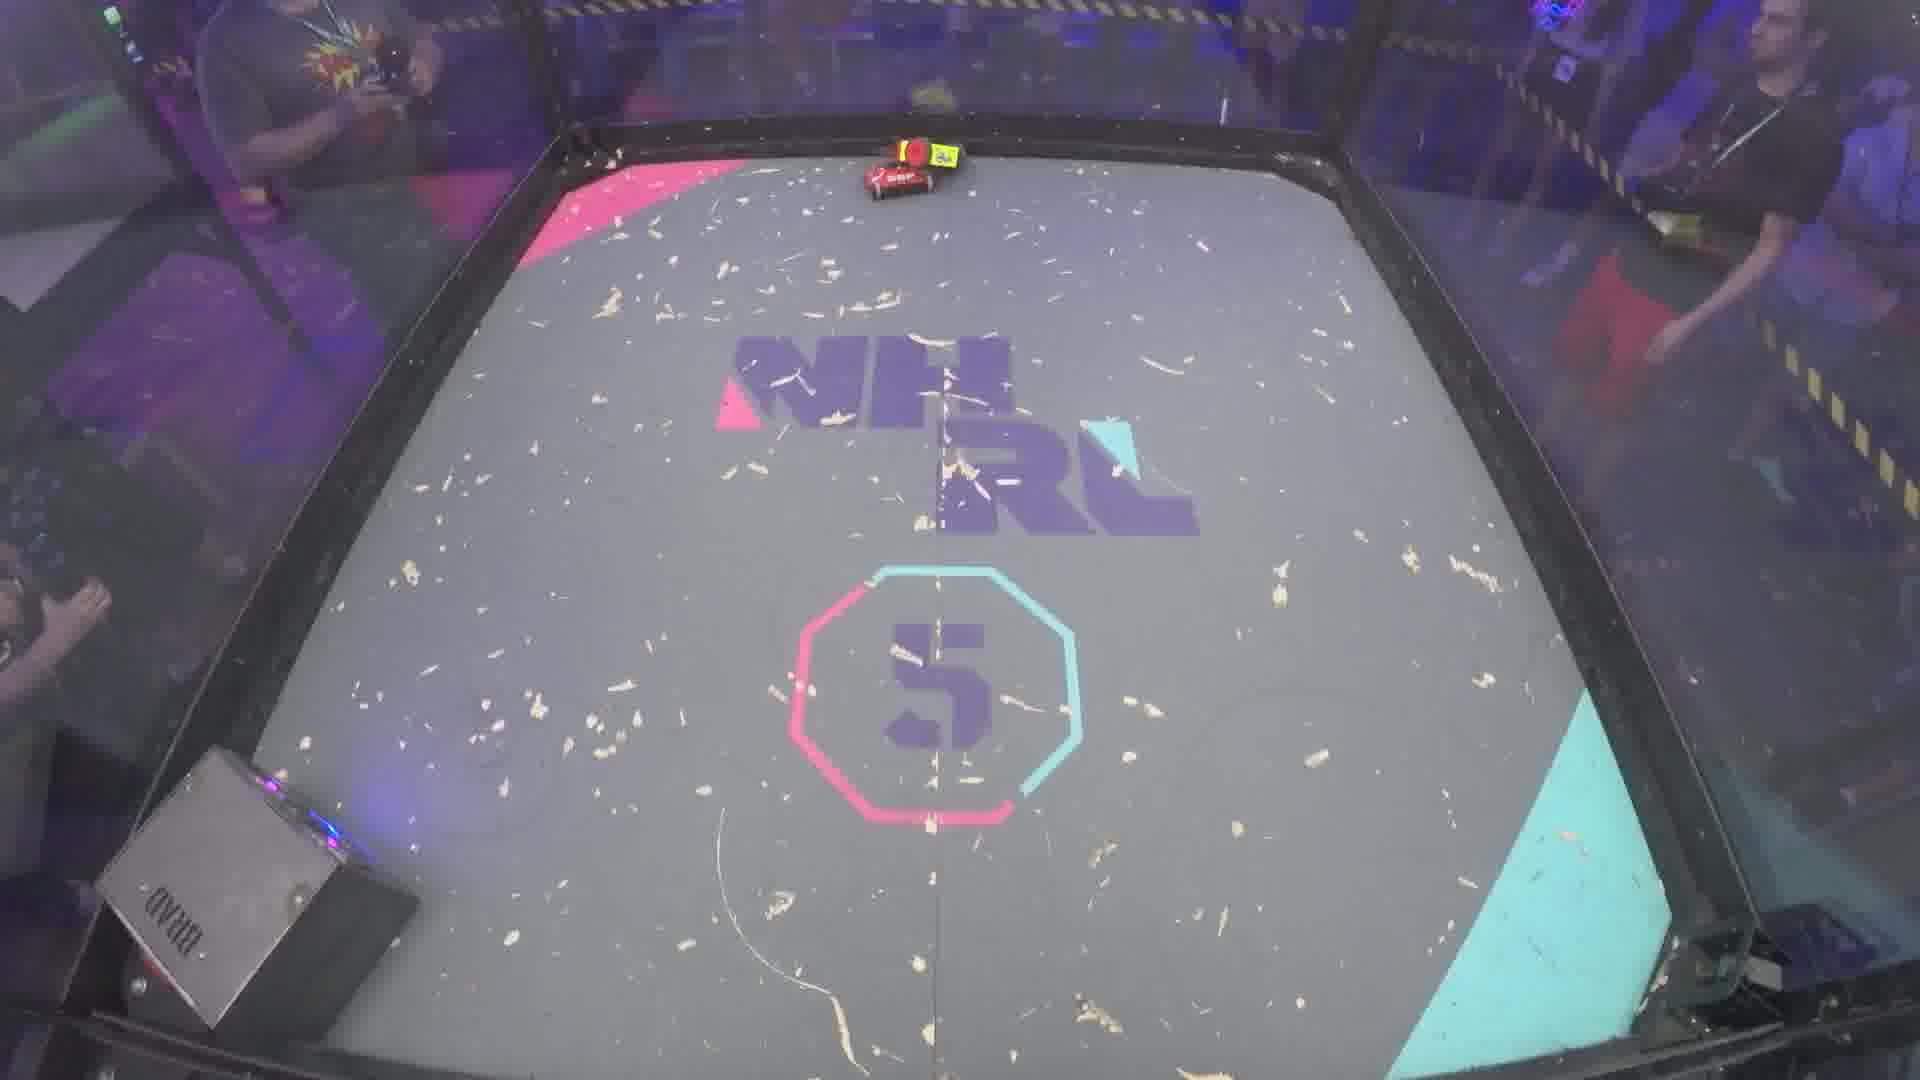combatbot: (884, 135, 968, 169), (868, 162, 932, 204)
housebot: (92, 746, 423, 1068)
